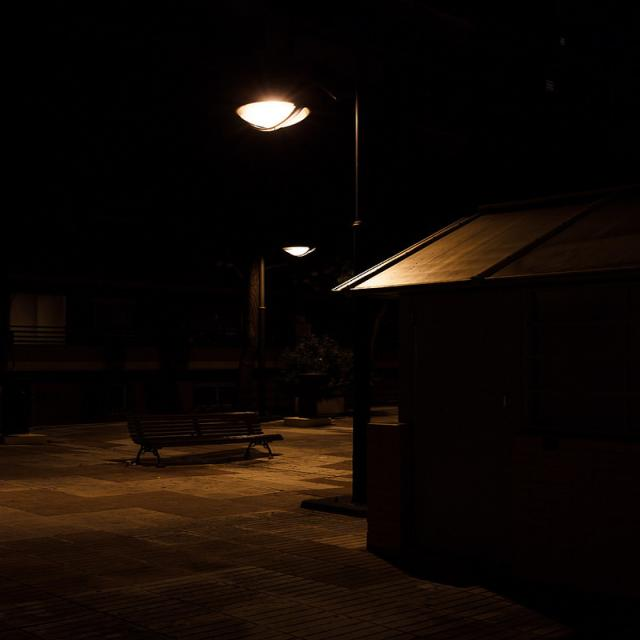chair: (77, 399, 302, 477)
